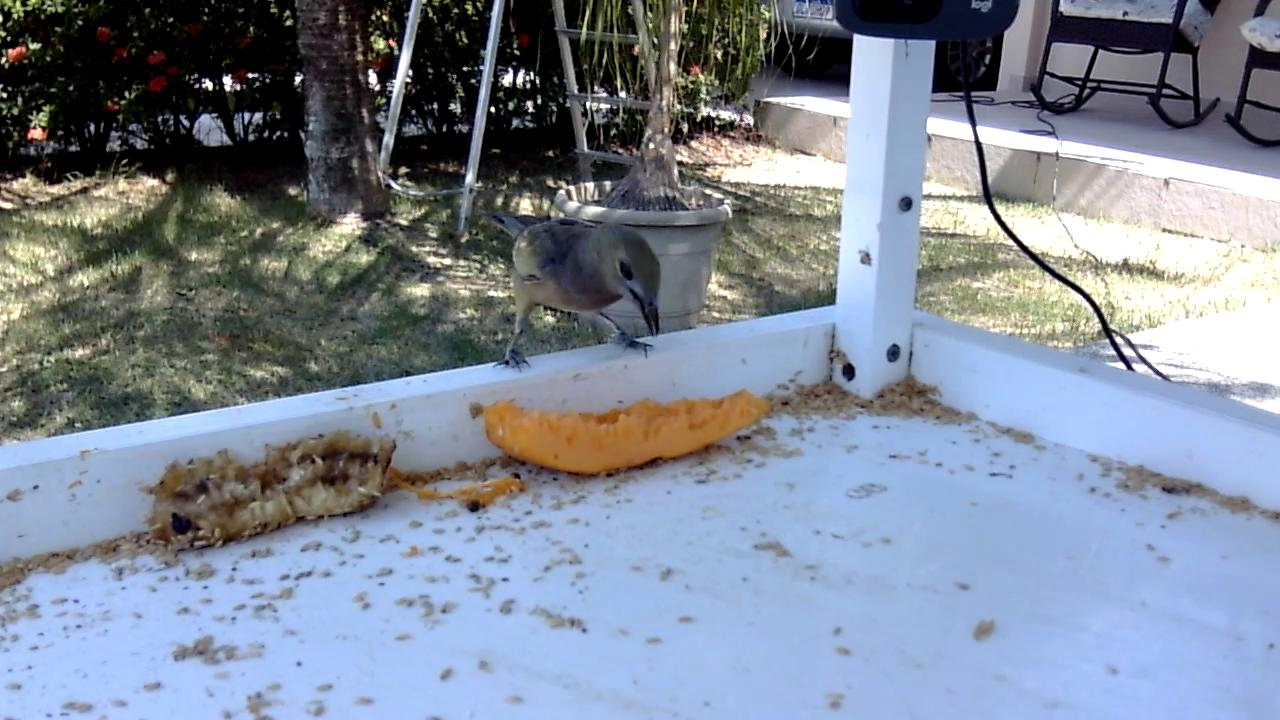sanhaco_do_coqueiro: (488, 209, 666, 377)
